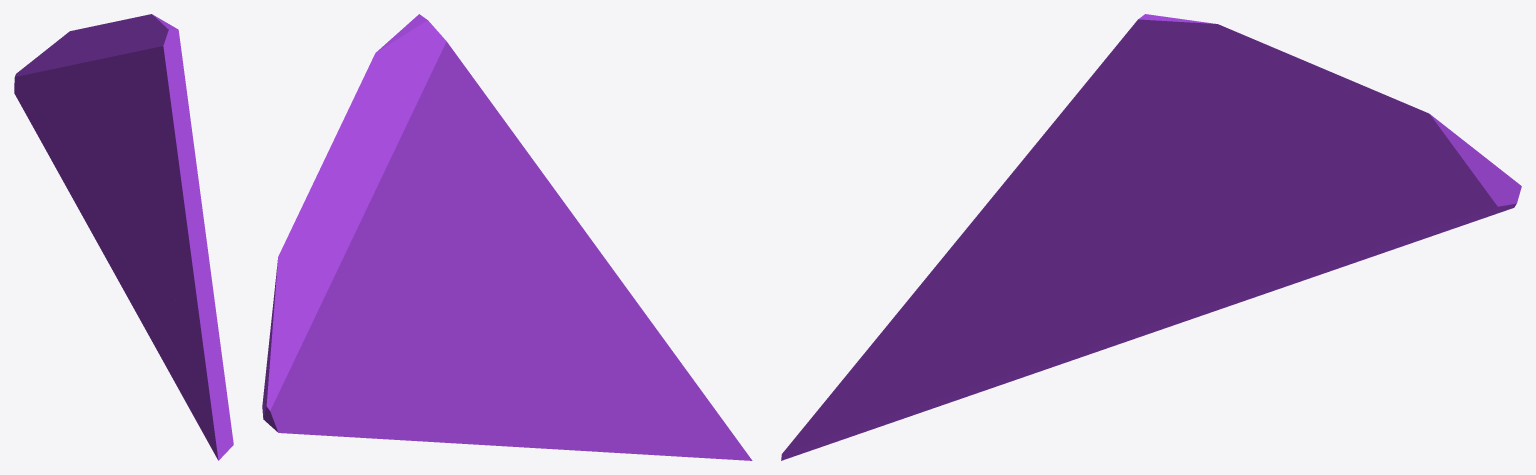
File: Window_3_1_chunks.fbx
3 views of the same model, side by side, from view 1: azimuth 30°, elevation 25°; view 2: azimuth 150°, elevation 25°; view 3: azimuth 270°, elevation 25° (orthographic). The views are drawn at different scales.
Visible parts, largest first — view 1: Window_3_1_7, Window_3_1_3, Window_3_1_4, Window_3_1_1, Window_3_1_6, Window_3_1_9, Window_3_1_0, Window_3_1_5, Window_3_1_2; view 2: Window_3_1_1, Window_3_1_7, Window_3_1_4, Window_3_1_3, Window_3_1_6, Window_3_1_9, Window_3_1_0, Window_3_1_5; view 3: Window_3_1_7, Window_3_1_1, Window_3_1_4, Window_3_1_2, Window_3_1_6, Window_3_1_9, Window_3_1_5, Window_3_1_8, Window_3_1_3.
Boxes of the visible parts, <box> form: Window_3_1_7: <box>127,111,226,390</box>; Window_3_1_3: <box>115,238,226,460</box>; Window_3_1_4: <box>34,127,130,269</box>; Window_3_1_1: <box>14,17,134,129</box>; Window_3_1_6: <box>118,14,189,120</box>; Window_3_1_9: <box>103,46,141,184</box>; Window_3_1_0: <box>51,81,106,129</box>; Window_3_1_5: <box>128,190,164,274</box>; Window_3_1_2: <box>112,266,233,452</box>; Window_3_1_1: <box>262,95,392,435</box>; Window_3_1_7: <box>460,112,689,375</box>; Window_3_1_4: <box>325,283,511,446</box>; Window_3_1_3: <box>507,338,752,460</box>; Window_3_1_6: <box>355,14,497,186</box>; Window_3_1_9: <box>377,148,477,303</box>; Window_3_1_0: <box>346,212,415,394</box>; Window_3_1_5: <box>482,306,577,364</box>; Window_3_1_7: <box>829,104,1166,396</box>; Window_3_1_1: <box>1261,42,1521,238</box>; Window_3_1_4: <box>1132,184,1440,329</box>; Window_3_1_2: <box>781,293,1162,457</box>; Window_3_1_6: <box>1069,14,1261,126</box>; Window_3_1_9: <box>1161,82,1262,230</box>; Window_3_1_5: <box>982,232,1163,321</box>; Window_3_1_8: <box>1127,90,1246,155</box>; Window_3_1_3: <box>781,354,1088,460</box>.
Bounding box in the file's own units: 159 × 643 × 865.
